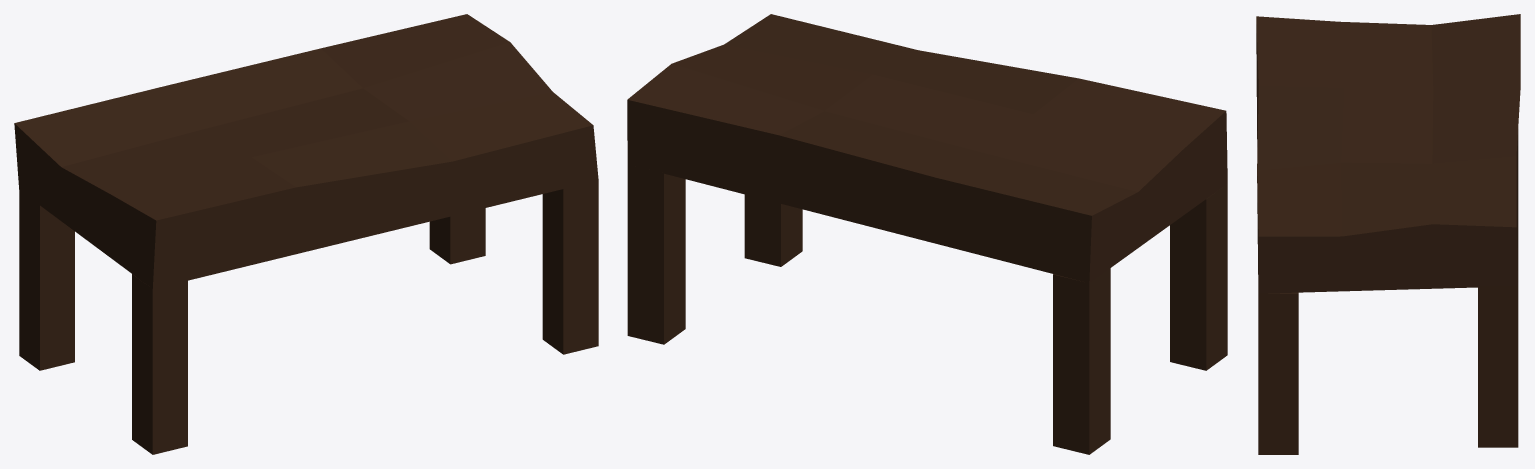
Rendered from table_box.fbx.
3 views of the same model, side by side, from view 1: azimuth 30°, elevation 25°; view 2: azimuth 150°, elevation 25°; view 3: azimuth 270°, elevation 25° (orthographic). The views are drawn at different scales.
Parts seen in each view (by area): view 1: Table Box; view 2: Table Box; view 3: Table Box.
Boxes of the visible parts, x1=… form: Table Box: x1=14, y1=14, x2=598, y2=454; Table Box: x1=627, y1=14, x2=1227, y2=454; Table Box: x1=1256, y1=14, x2=1520, y2=454.
Size of the model in its own units: 124 by 62.57 by 64.82.
